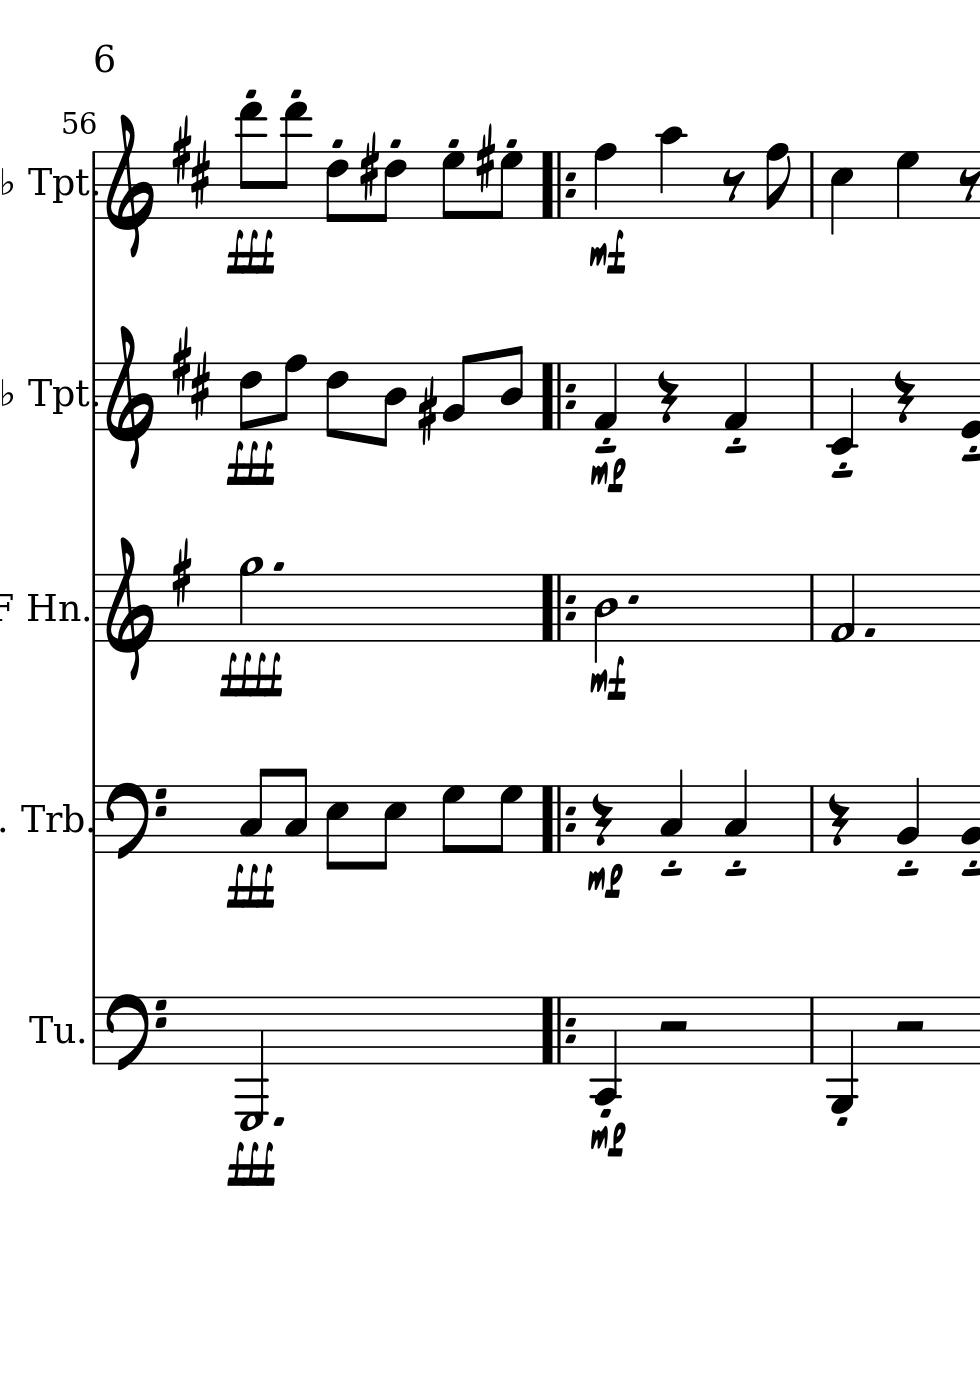2_-7: (235, 995, 270, 1131)
2_1: (829, 573, 857, 644)
2_4: (593, 573, 619, 663)
4_-2: (826, 359, 855, 456)
4_-4: (590, 995, 622, 1107)
4_-5: (826, 994, 857, 1115)
4_1: (592, 361, 619, 432), (721, 361, 749, 432)
4_10: (655, 125, 685, 221)
4_2: (894, 775, 921, 854)
4_3: (658, 768, 684, 854), (722, 768, 748, 853)
4_5: (828, 150, 853, 236)
4_7: (894, 150, 920, 221)
4_8: (591, 141, 618, 222)
4_9: (237, 554, 264, 643)
5: (62, 109, 78, 137)
6: (94, 41, 115, 73), (78, 109, 97, 138)
8_13: (276, 102, 311, 220), (235, 101, 265, 220)
8_2: (441, 353, 474, 429)
8_3: (237, 766, 272, 855), (283, 767, 308, 855)
8_4: (374, 359, 406, 449), (498, 344, 523, 431)
8_5: (373, 783, 407, 872), (323, 783, 349, 872)
8_6: (375, 151, 407, 224), (323, 359, 349, 441), (323, 150, 349, 225), (237, 361, 263, 433)
8_7: (490, 784, 523, 855), (490, 150, 522, 221), (439, 150, 465, 221), (440, 784, 465, 855)
8_8: (276, 353, 307, 432), (763, 141, 792, 221)
D_S: (170, 322, 211, 419), (170, 113, 211, 208)
Fclef: (105, 780, 171, 861), (103, 992, 169, 1071)
Gclef: (103, 536, 155, 680), (105, 111, 155, 257), (104, 323, 154, 469)
Hn: (24, 587, 80, 630)
LeftRepeatSign: (537, 785, 579, 853), (536, 996, 578, 1064), (536, 574, 577, 641), (538, 152, 578, 220), (538, 362, 577, 429)
Rests2: (654, 1018, 693, 1038), (891, 1018, 928, 1037)
Rests4: (654, 369, 680, 426), (589, 792, 614, 848), (891, 369, 915, 426), (826, 792, 851, 848)
Rests8: (720, 168, 746, 203), (955, 168, 979, 204)
Sharp: (170, 537, 194, 608), (416, 376, 437, 448), (357, 134, 379, 201), (474, 127, 495, 193)
Single_barline: (803, 362, 821, 429), (803, 997, 820, 1065), (803, 152, 820, 218), (804, 786, 820, 853), (86, 997, 101, 1064), (804, 575, 819, 641), (87, 575, 101, 642), (87, 786, 101, 852), (88, 363, 101, 431), (89, 151, 100, 220)
Tpt: (24, 373, 87, 415), (25, 163, 88, 204)
Trb: (19, 795, 85, 840)
dot: (268, 1112, 288, 1129), (624, 593, 642, 607), (270, 560, 285, 574), (861, 626, 876, 639)
fff: (222, 861, 276, 911), (223, 227, 275, 276), (223, 438, 275, 486), (227, 1138, 272, 1187)
mf: (587, 230, 628, 276), (589, 657, 628, 703)
mp: (584, 862, 626, 901), (589, 457, 628, 494), (591, 1121, 627, 1158)
